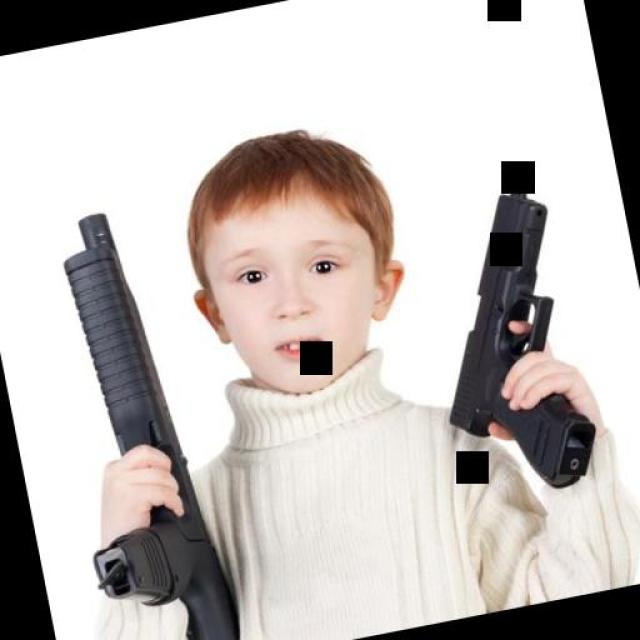gun: (14, 199, 244, 640), (406, 181, 596, 510)
